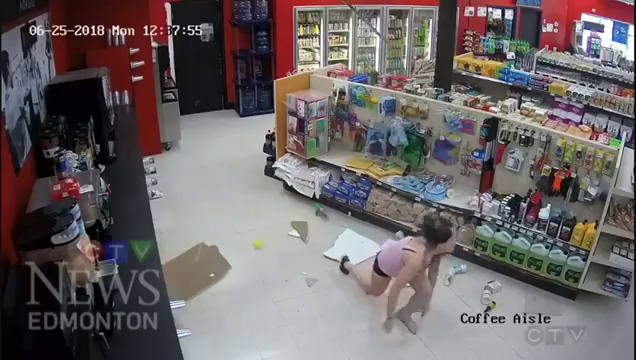face: (438, 229, 457, 253)
